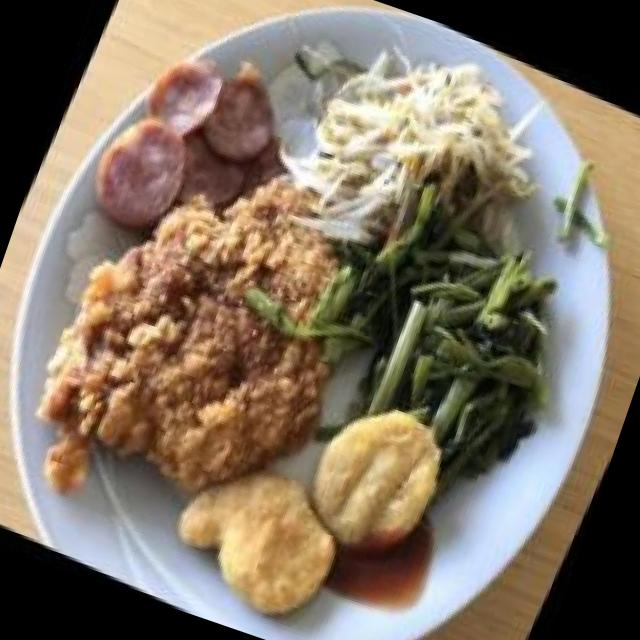chicken_nuggets: (152, 336, 465, 640)
chinese_sausage: (79, 22, 304, 277)
fried_chicken: (17, 118, 409, 535)
mung_bean_sprouts: (282, 10, 558, 278)
water_spinach: (318, 201, 590, 511)
